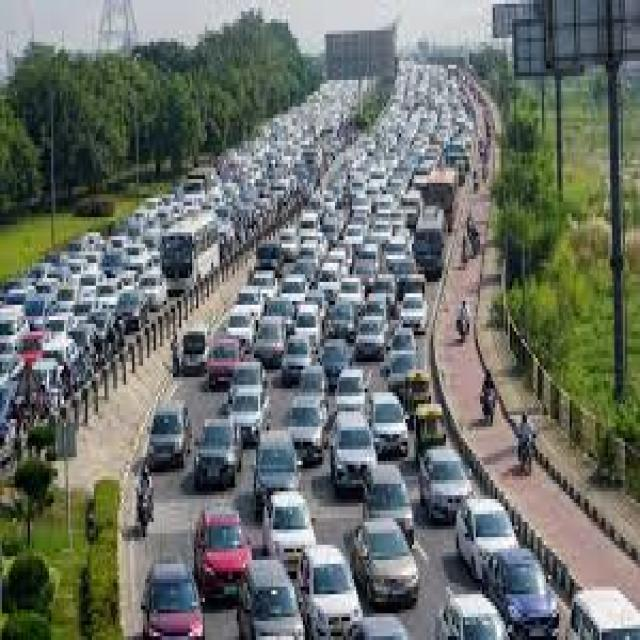high_traffic: (167, 104, 445, 640)
